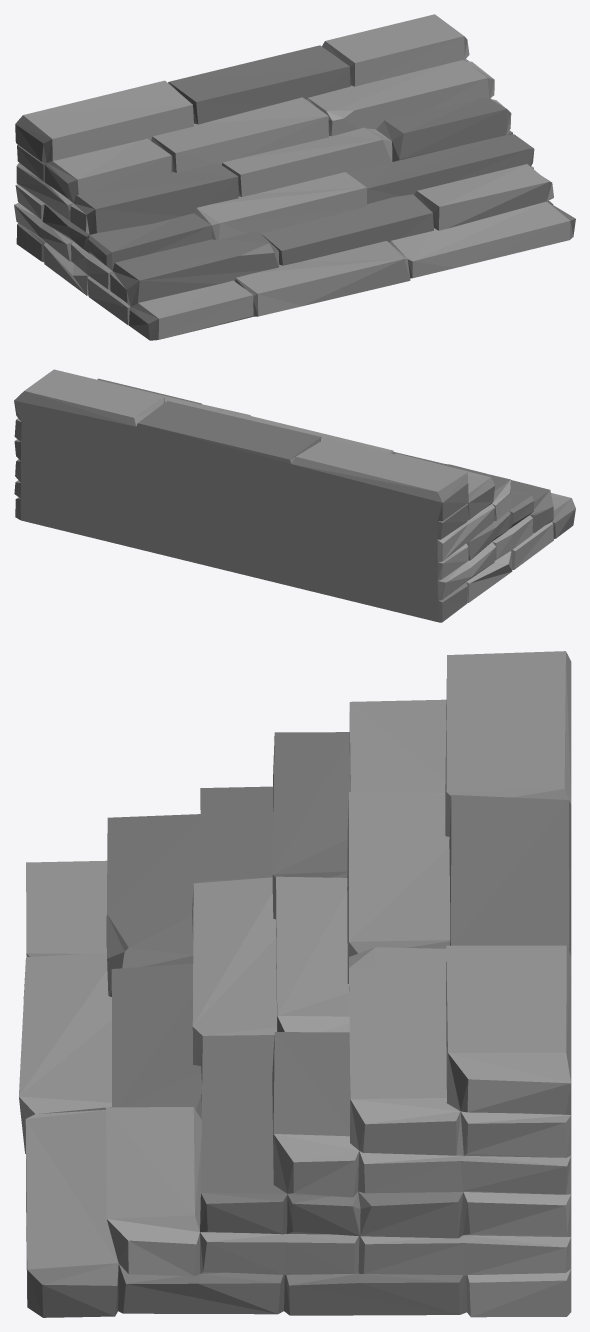
File: _STAIRS_04_1.glb
3 renders of one model, top to bottom at view 1: azimuth 30°, elevation 25°; view 2: azimuth 150°, elevation 25°; view 3: azimuth 270°, elevation 25°, orthographic. The views are drawn at different scales.
Parts seen in each view (by area): view 1: STAIRS_04_1; view 2: STAIRS_04_1; view 3: STAIRS_04_1.
Boxes of the visible parts, x1=… form: STAIRS_04_1: x1=14, y1=14, x2=575, y2=340; STAIRS_04_1: x1=14, y1=369, x2=575, y2=622; STAIRS_04_1: x1=19, y1=651, x2=571, y2=1317.
Size of the model in its own units: 1.86 by 0.531 by 1.03.
1 material, 1 textured.
